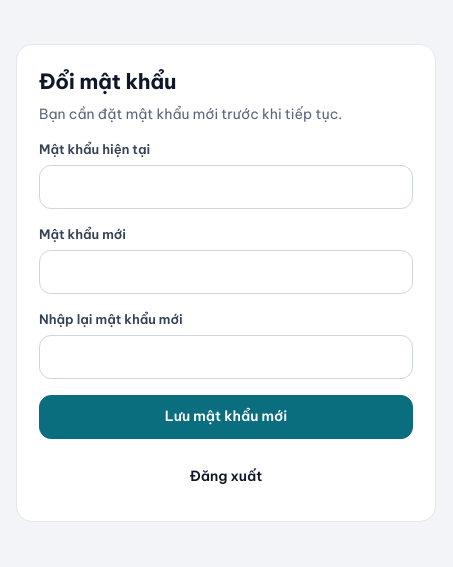
Scenario: ChangePasswordPage › shows the server error for a wrong current password
Type "nope" into the password field labelled "Mật khẩu hiện tại". click: (226, 187)
box: [39,165,413,209]
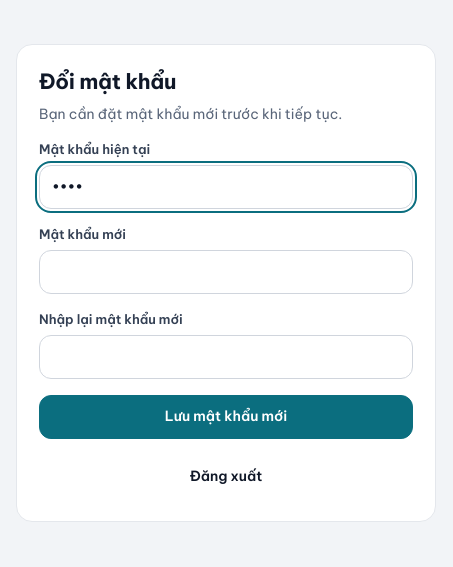
Type "NewPassw0rd!" into the password field labelled "Mật khẩu mới". click: (226, 272)
box: [39,250,413,294]
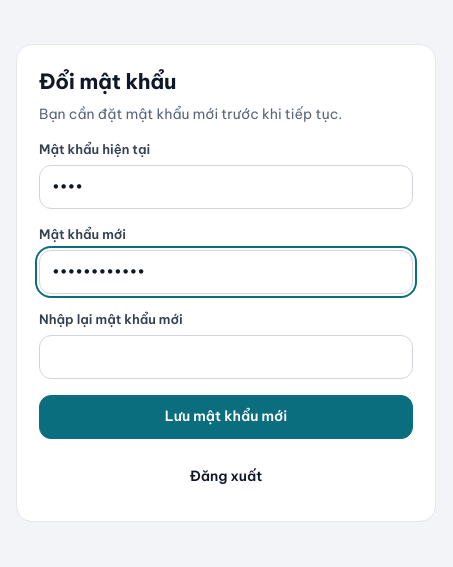
Type "NewPassw0rd!" into the password field labelled "Nhập lại mật khẩu mới". click: (226, 357)
box: [39,335,413,379]
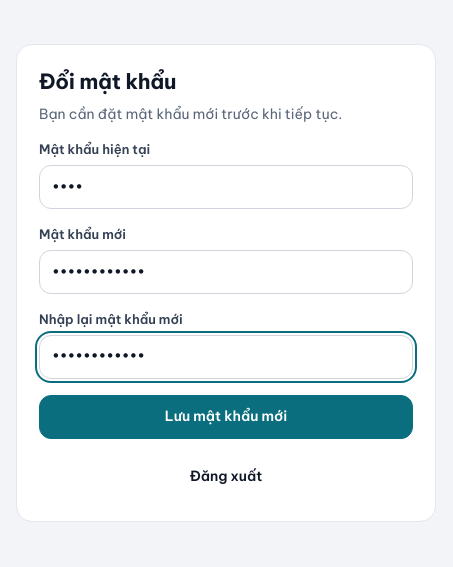
Click the button "Lưu mật khẩu mới". click: (226, 417)
box: [39,395,413,439]
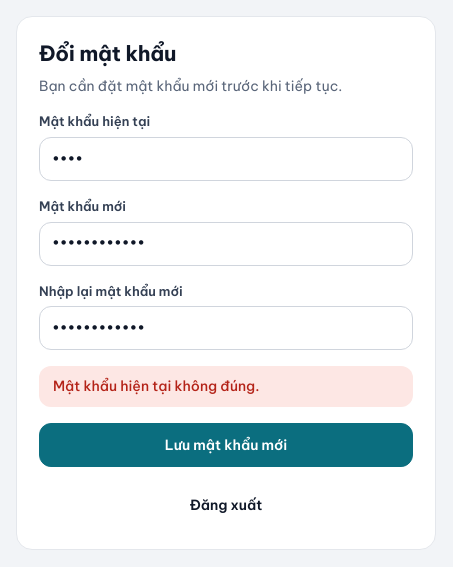
Now the message reads "Mật khẩu hiện tại không đúng.", box [53,378,259,396]
